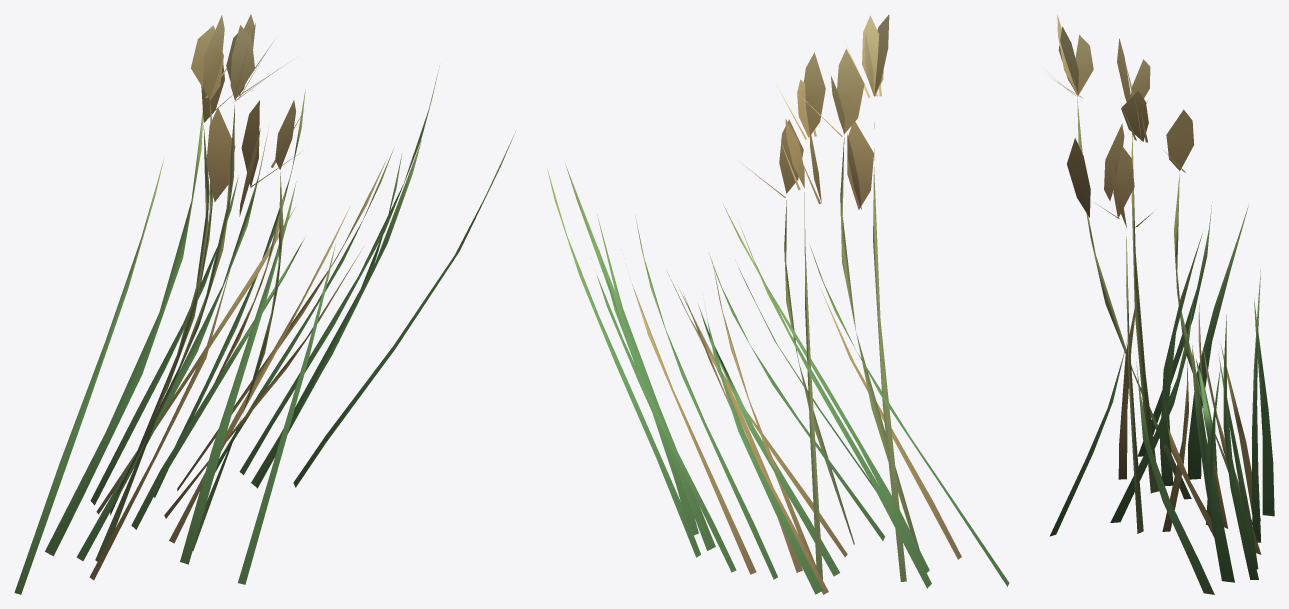
Rendered from BentWildGrass_LOD0.glb.
3 renders of one model, left to right at view 1: azimuth 30°, elevation 25°; view 2: azimuth 150°, elevation 25°; view 3: azimuth 270°, elevation 25°, orthographic. The views are drawn at different scales.
Visible parts, largest first — view 1: BentWildGrass_LOD0; view 2: BentWildGrass_LOD0; view 3: BentWildGrass_LOD0.
Boxes of the visible parts, left/top/right/bottom form: BentWildGrass_LOD0: left=14, top=14, right=515, bottom=594; BentWildGrass_LOD0: left=547, top=14, right=1009, bottom=594; BentWildGrass_LOD0: left=1044, top=14, right=1274, bottom=594.
Bounding box in the file's own units: 0.4691 × 0.5046 × 0.2058.
